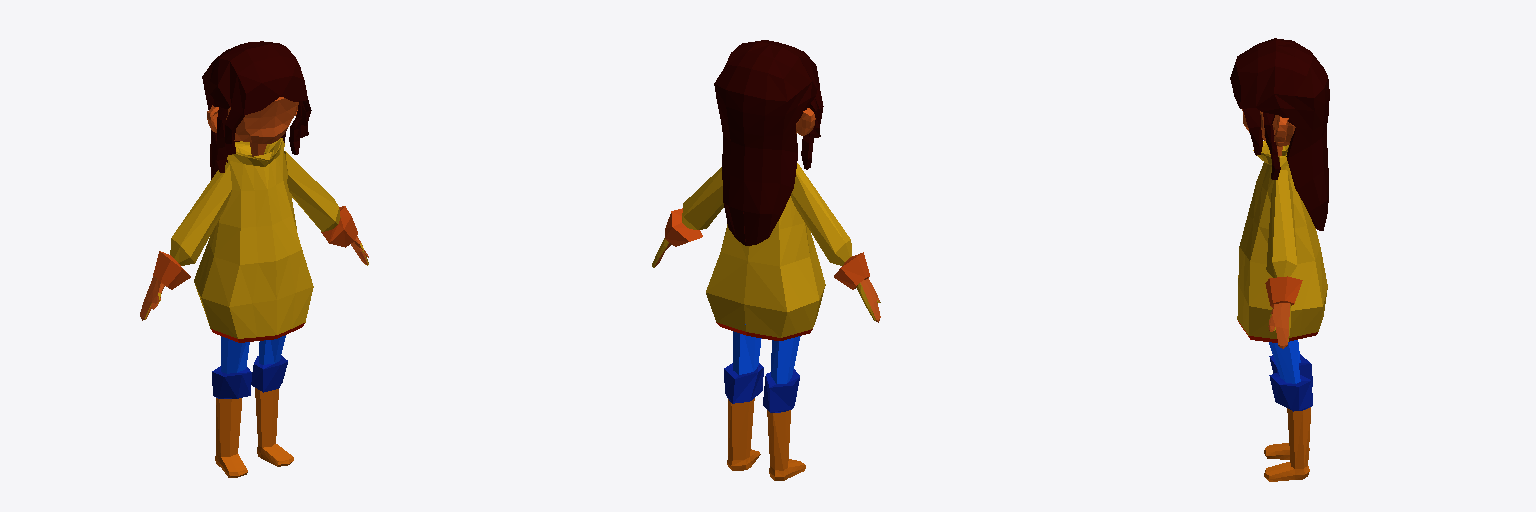
3 views of the same model, side by side, from view 1: azimuth 30°, elevation 25°; view 2: azimuth 150°, elevation 25°; view 3: azimuth 270°, elevation 25° (orthographic).
Parts seen in each view (by area): view 1: Body, Hair, Arms, Legs, Head; view 2: Hair, Body, Legs, Arms; view 3: Hair, Body, Legs, Arms.
Part boxes in pixels (left/top/right/bottom): Body: left=194, top=138, right=313, bottom=342; Hair: left=202, top=41, right=311, bottom=179; Arms: left=140, top=151, right=368, bottom=320; Legs: left=212, top=335, right=293, bottom=477; Head: left=226, top=97, right=298, bottom=143; Hair: left=714, top=40, right=823, bottom=245; Body: left=706, top=196, right=825, bottom=340; Legs: left=724, top=324, right=805, bottom=480; Arms: left=652, top=163, right=880, bottom=322; Hair: left=1230, top=38, right=1329, bottom=230; Body: left=1237, top=141, right=1327, bottom=342; Legs: left=1264, top=340, right=1312, bottom=481; Arms: left=1265, top=170, right=1302, bottom=348.
Size of the model in its own units: 2.14 by 3.82 by 0.8219.